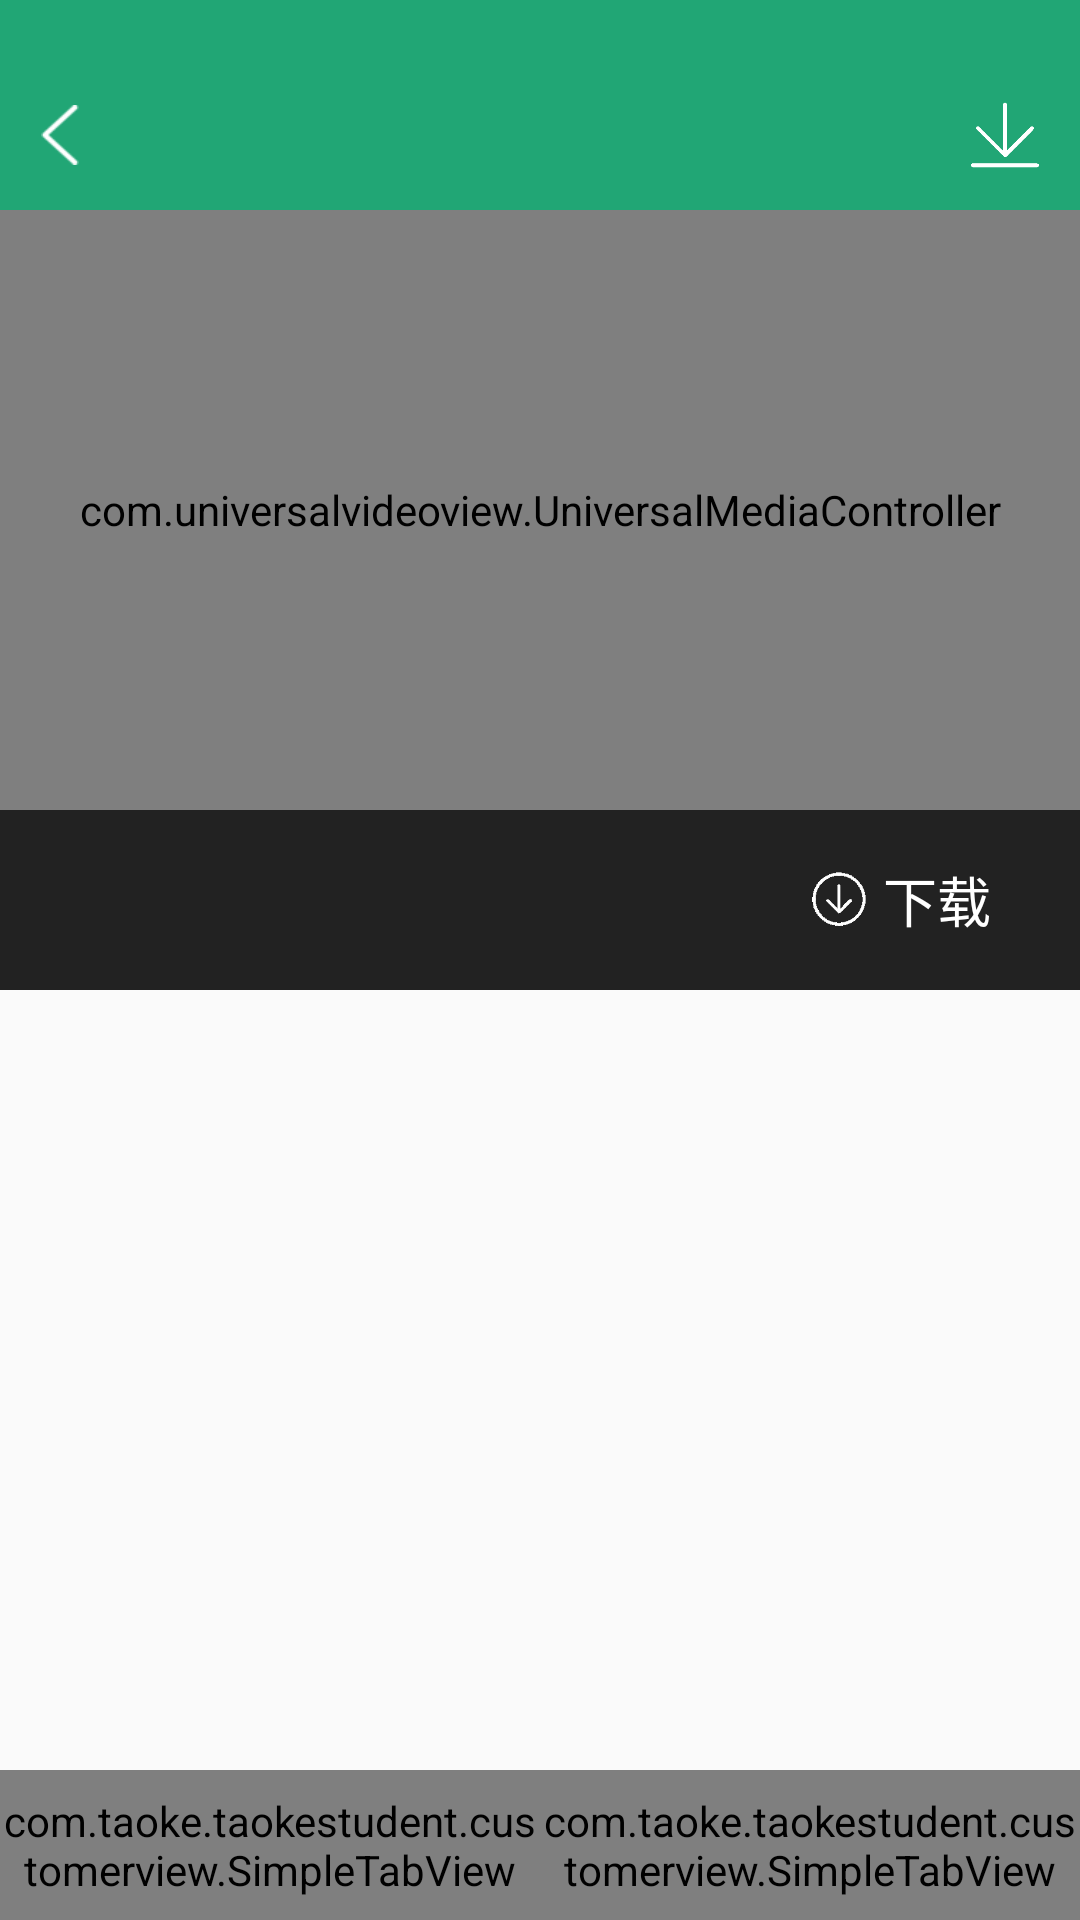

Locate icon controls on the screen. Image size 1080 × 1920, boxes as region(x1, y1, x2, y2).
arrow left: region(41, 105, 79, 165)
download: region(971, 103, 1039, 168), region(812, 872, 866, 926)
